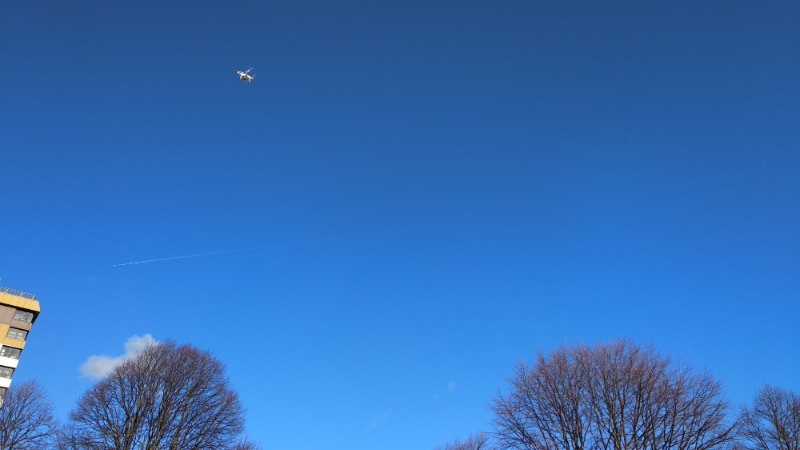drone: (235, 64, 258, 85)
